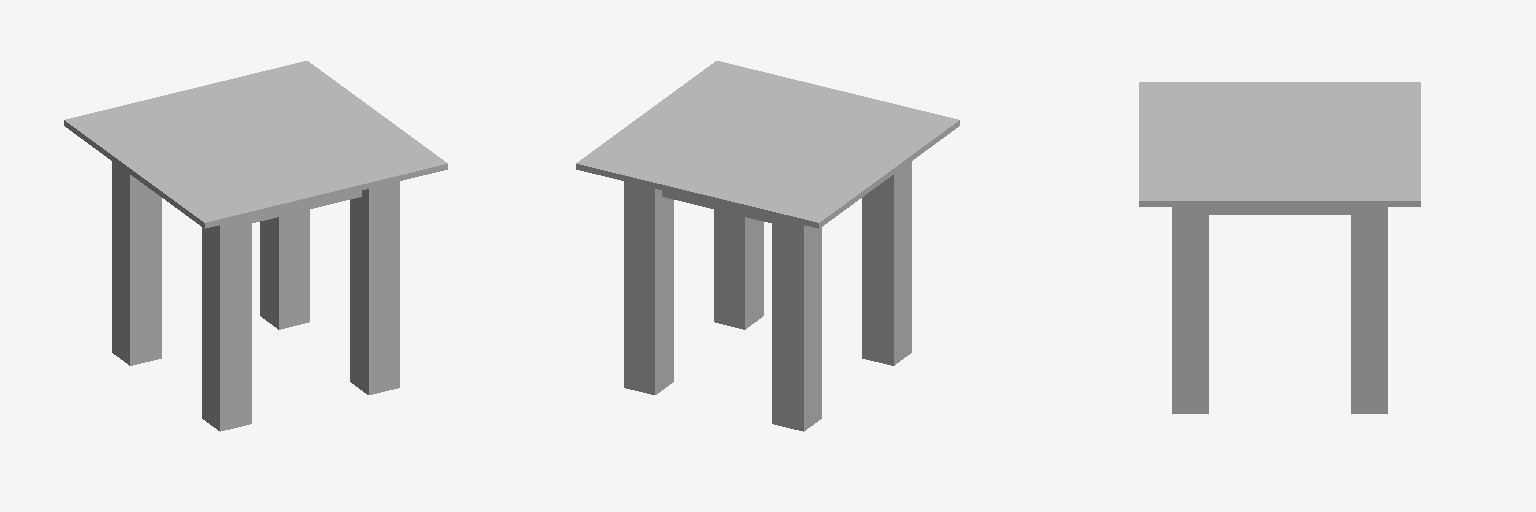
Rendered from ground.obj.
The picture shows the model from 3 angles: view 1: azimuth 30°, elevation 25°; view 2: azimuth 150°, elevation 25°; view 3: azimuth 270°, elevation 25°; orthographic projection.
Parts seen in each view (by area): view 1: polySurface2; view 2: polySurface2; view 3: polySurface2.
Part boxes in pixels (left/top/right/bottom): polySurface2: left=64, top=61, right=447, bottom=431; polySurface2: left=576, top=61, right=959, bottom=431; polySurface2: left=1139, top=82, right=1420, bottom=413.
Size of the model in its own units: 10.08 by 9.04 by 10.1.